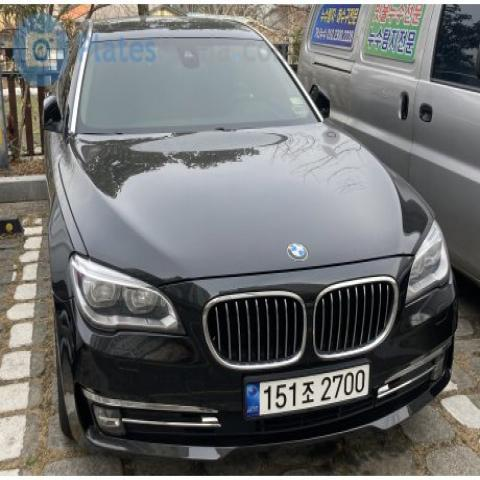LP: (244, 354, 375, 432)
